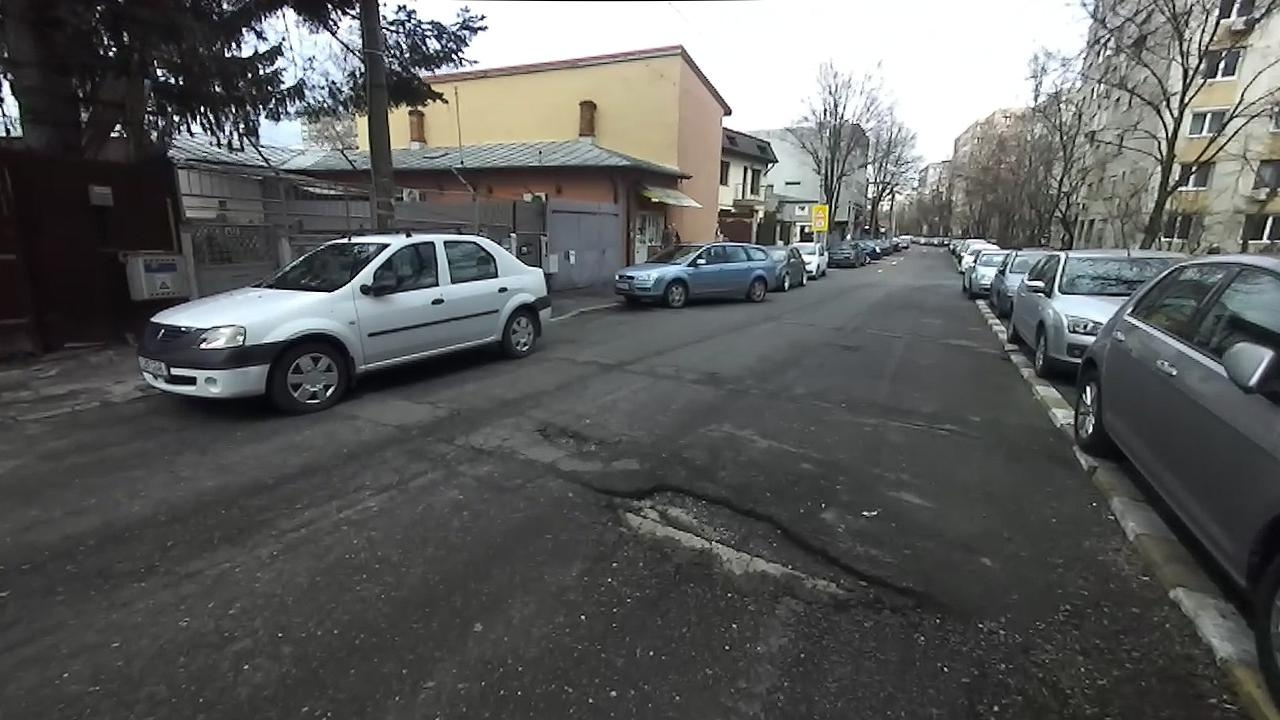pothole: (562, 473, 955, 625), (532, 413, 618, 457), (894, 417, 951, 437)
